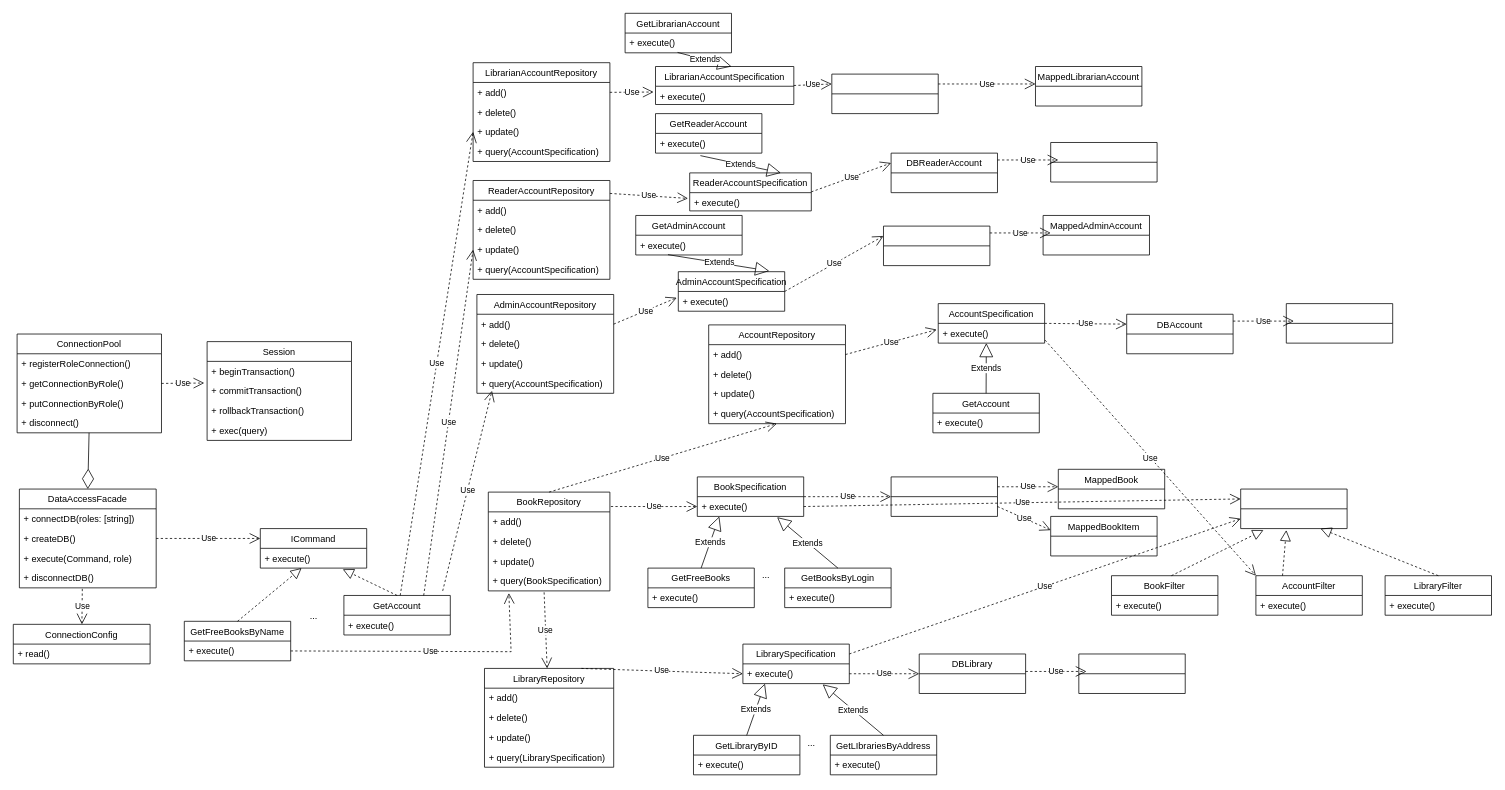
Image size: 1505x790. Some labels were removed from this diagram. The shapes that lost their labels are listed below. From the top down, each one's centre as x and y in pixels, then its label:
At pixel 884 93: "DBLibrarianAccount".
At pixel 1103 162: "MappedReaderAccount".
At pixel 936 245: "DBAdminAccount".
At pixel 1339 323: "MappedAccount".
At pixel 944 496: "DBBook".
At pixel 1293 508: "IFilter".
At pixel 1131 673: "MappedLibrary".
